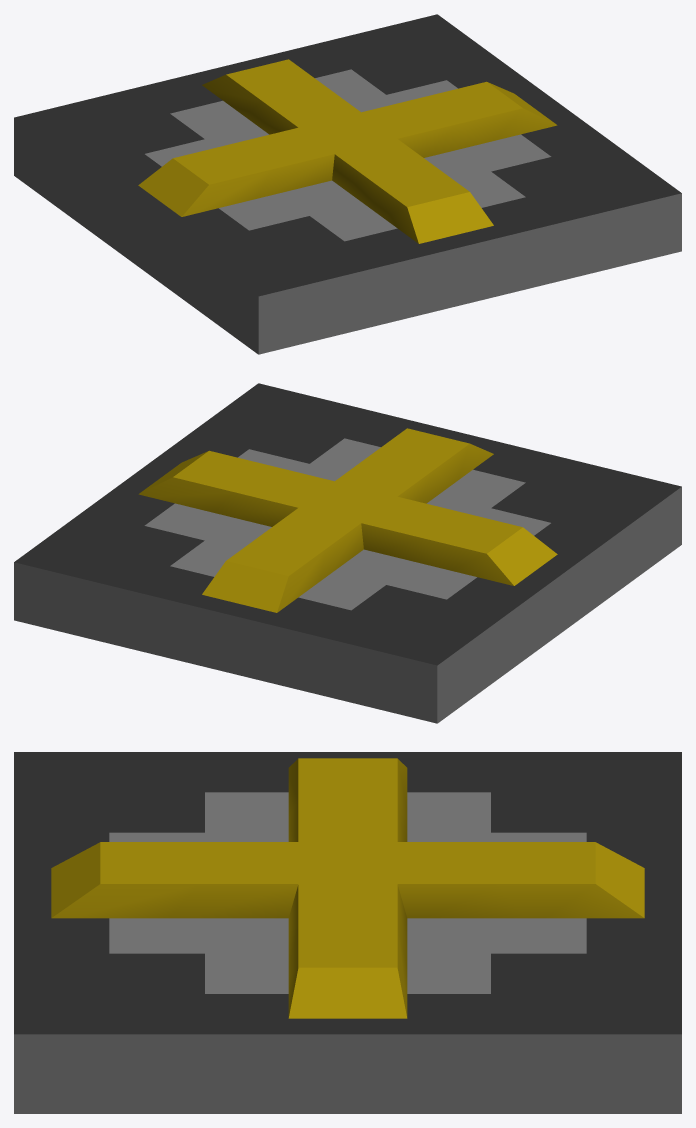
Rendered from armour_block.fbx.
3 renders of one model, top to bottom at view 1: azimuth 30°, elevation 25°; view 2: azimuth 150°, elevation 25°; view 3: azimuth 270°, elevation 25°, orthographic. The views are drawn at different scales.
Parts seen in each view (by area): view 1: pCube10; view 2: pCube10; view 3: pCube10.
Part boxes in pixels (box(x1,y1,x2,y2)): pCube10: box(14, 14, 681, 354); pCube10: box(14, 383, 681, 723); pCube10: box(14, 752, 681, 1113).
Size of the model in its own units: 10 by 1.81 by 10.
